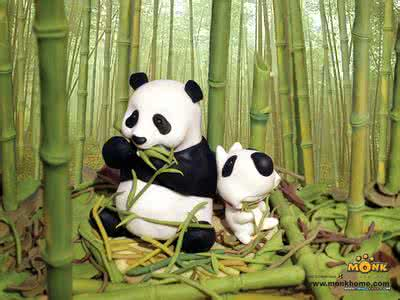panda: (104, 70, 220, 254)
